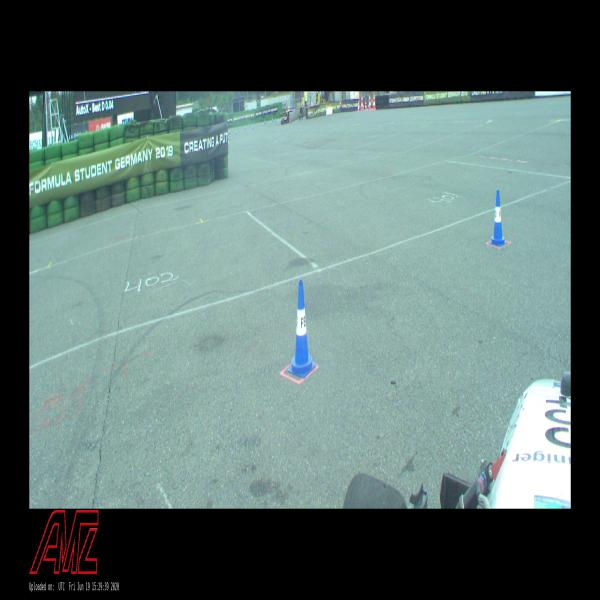blue_cone: (288, 280, 316, 377), (489, 190, 506, 246)
